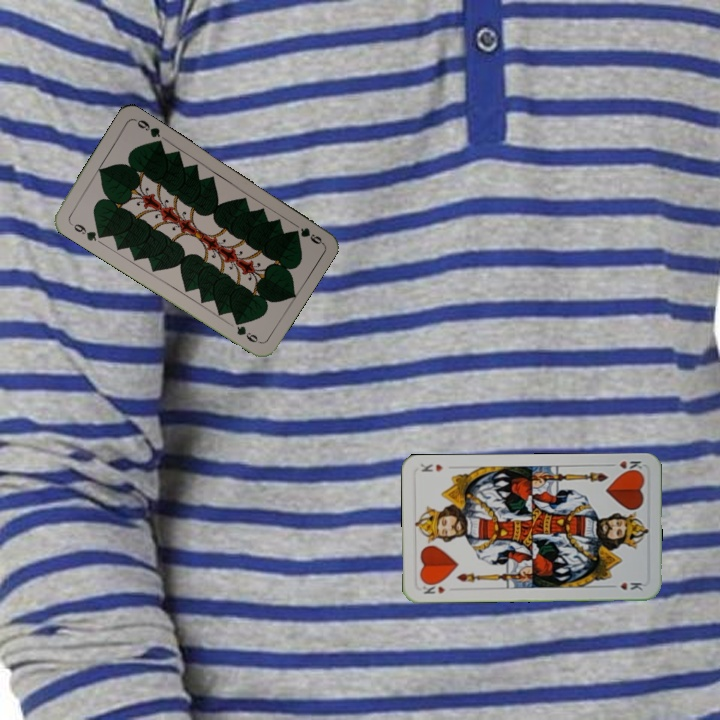G9: (66, 218, 105, 244), (292, 223, 325, 247)
HK: (605, 457, 645, 476), (419, 582, 448, 596)
